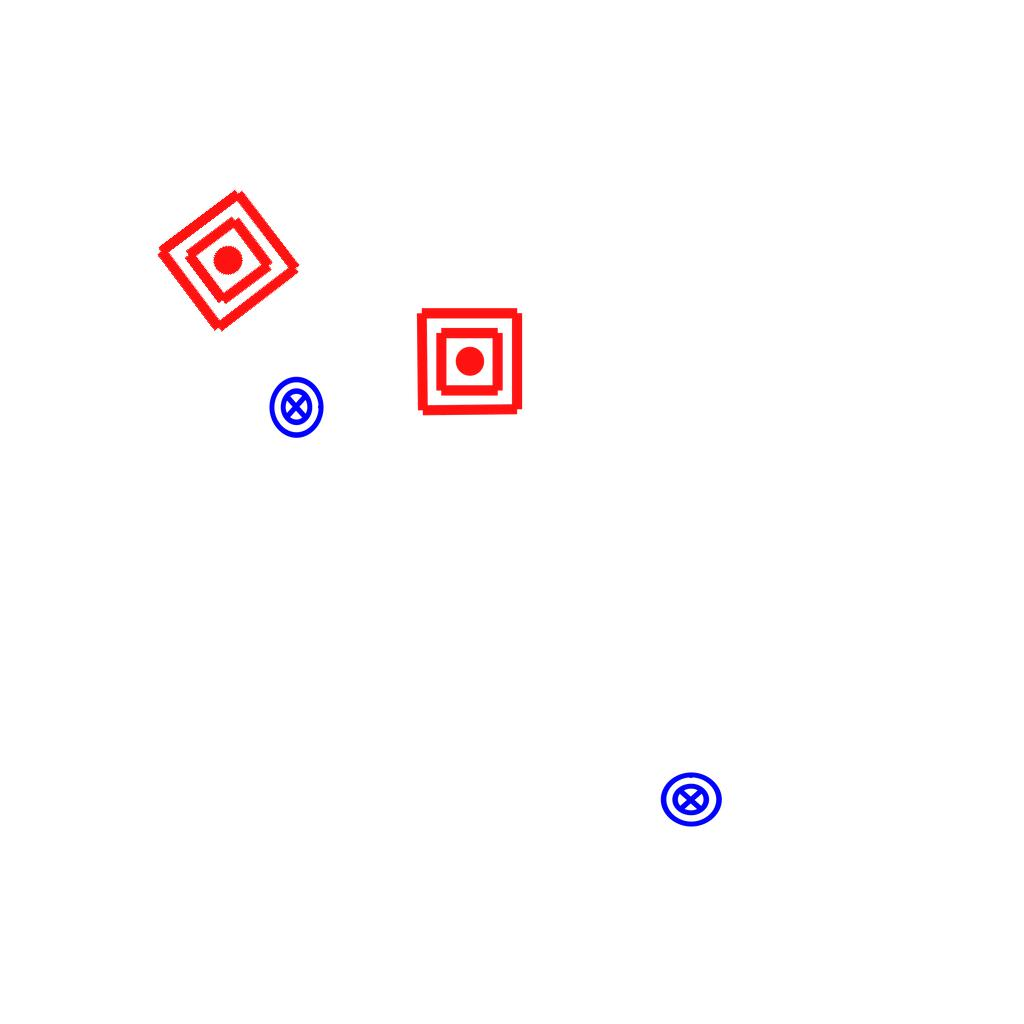NAM-Nichtautomatischer_Melder: (149, 181, 308, 340), (413, 305, 526, 418)
Taster_beleuchtet: (263, 374, 329, 440), (658, 767, 724, 833)
